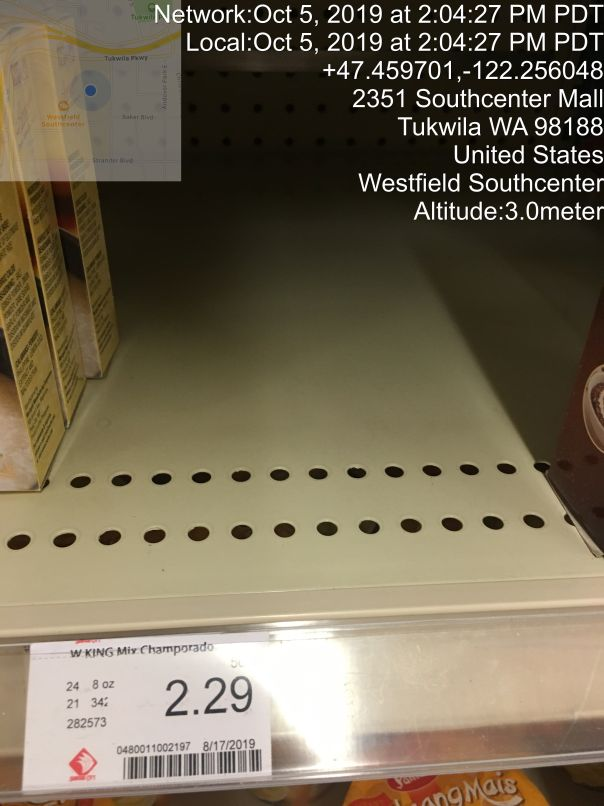Location: (344, 82, 604, 197)
Time: (147, 3, 604, 55)
Void: (90, 33, 517, 589)
W King Mix Champorado: (11, 630, 293, 795)
